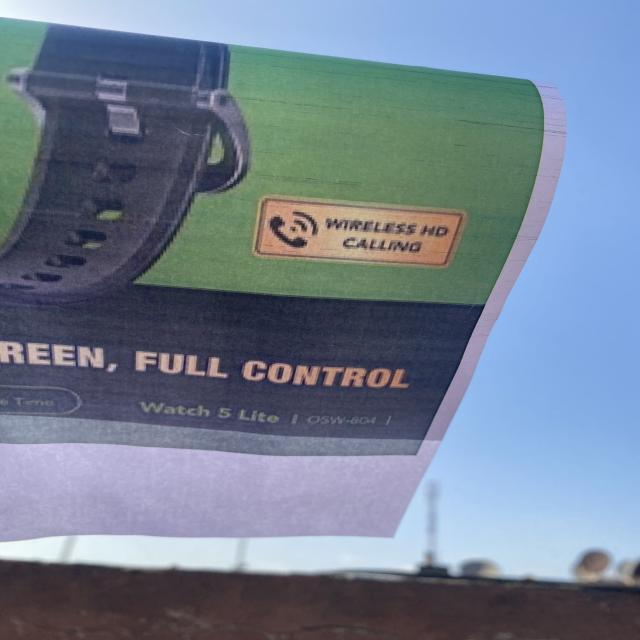Watch 5 Lite OSW-804: (131, 394, 401, 430)
